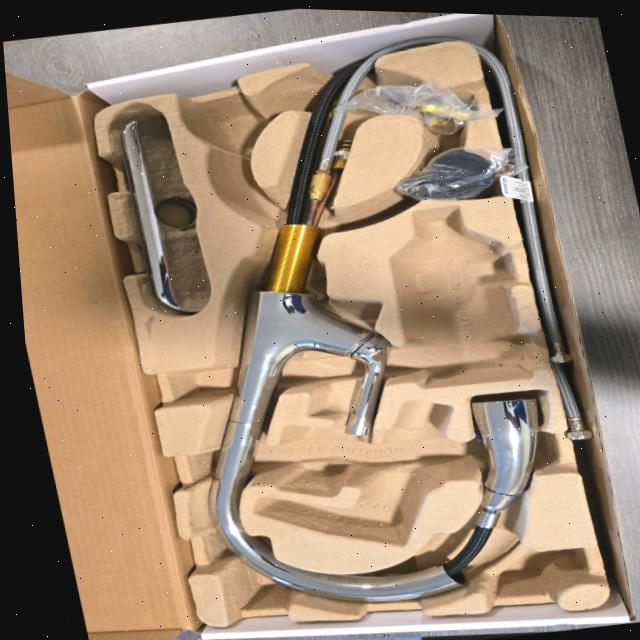1: (210, 53, 542, 602)
2m: (254, 401, 451, 546)
3m: (393, 206, 531, 388)
4: (119, 117, 211, 313)
5m: (190, 103, 262, 150)
6: (330, 77, 501, 136)
7: (388, 145, 527, 200)
